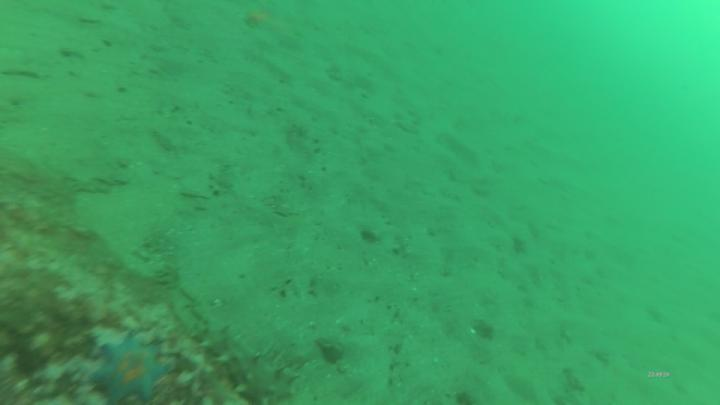holothurian: (191, 320, 303, 405)
starfish: (89, 328, 172, 405)
